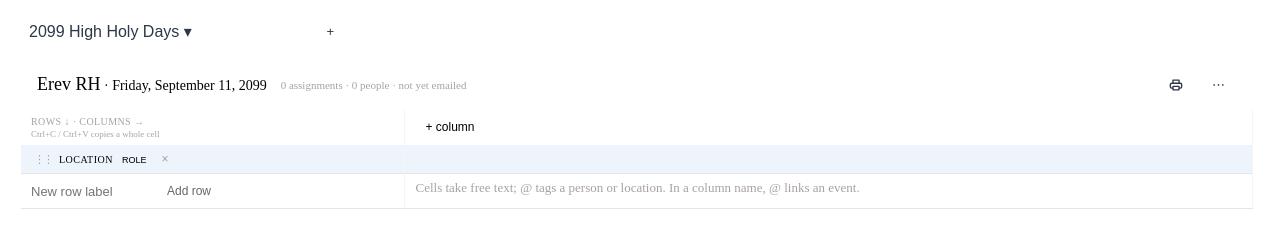
Test: SchedulingSheets — workbook picker › SSWP-3: Escape closes the picker
This screenshot has width=1270, height=226.
Step 1. Click the button with test id "workbook-picker" → point(110, 32), box [21, 16, 200, 47]
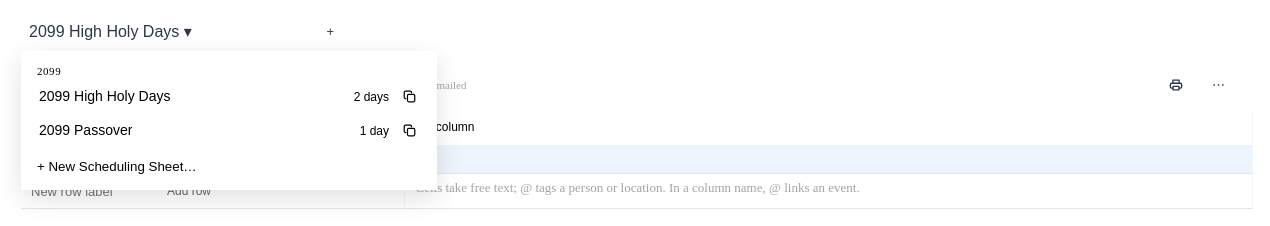
Step 2. Press Escape
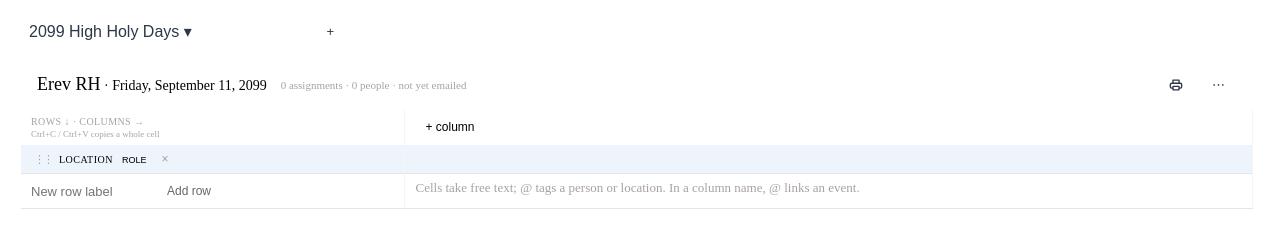
Expected: the element with test id "workbook-menu" is gone
